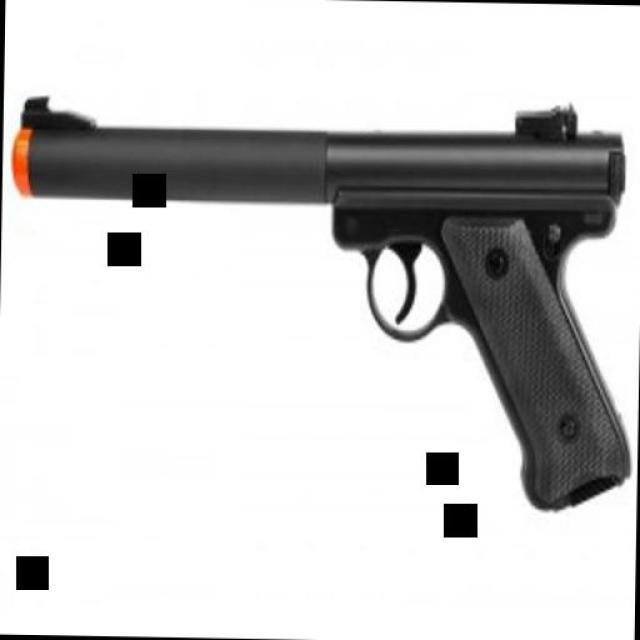gun: (7, 87, 640, 511)
